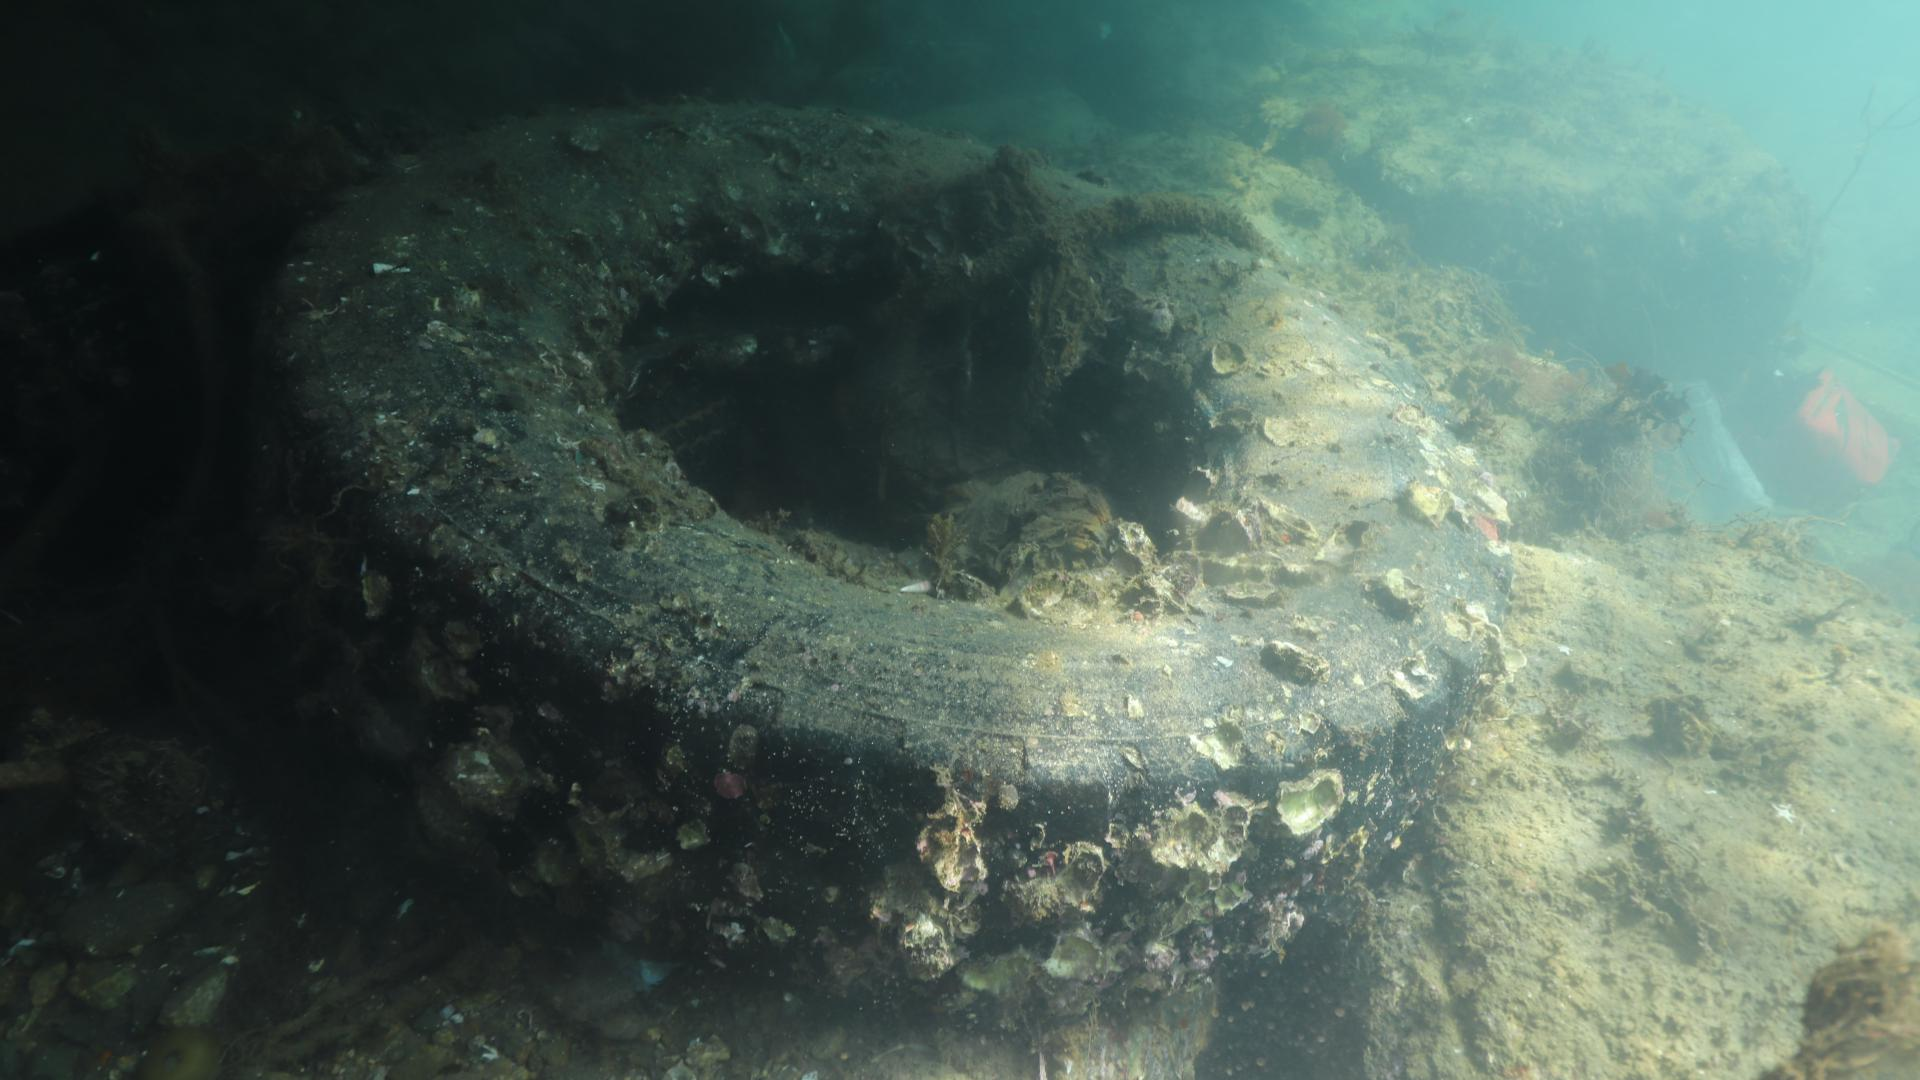tire: (248, 98, 1511, 1014)
